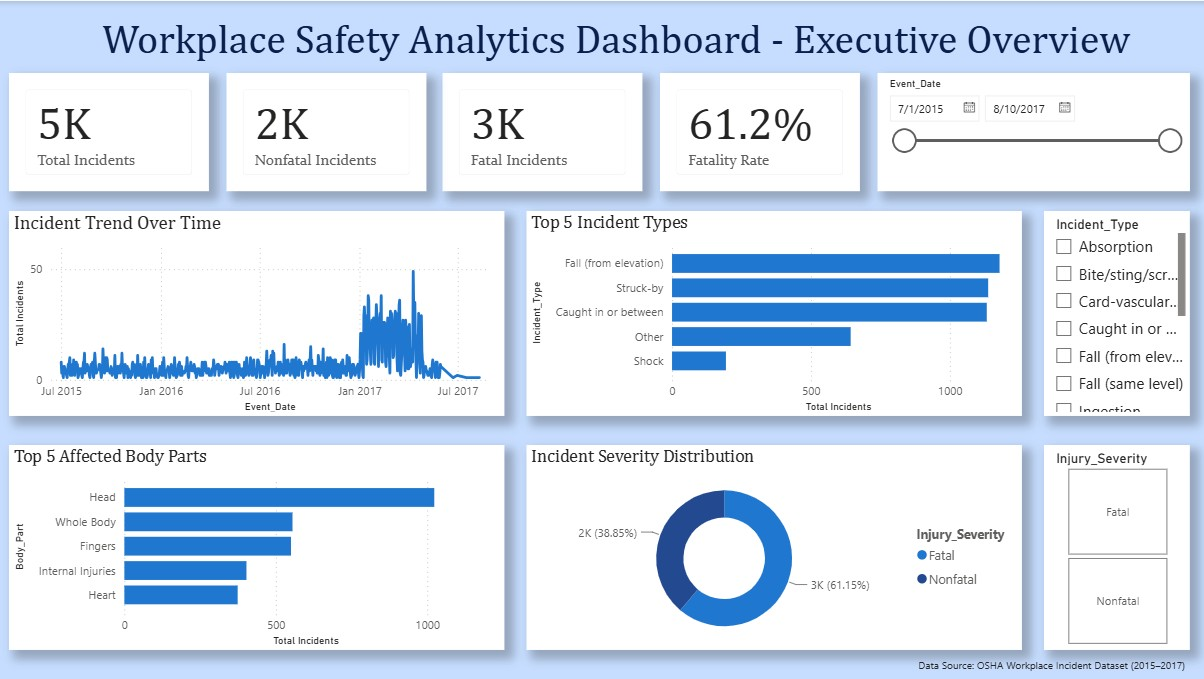

The page's visual inventory and layout, read from the dashboard file:
{"tool":"powerbi","page":{"name":"Executive Overview","canvas":[1280,720],"ordinal":0},"visuals":[{"type":"cardVisual","title":"Tota","fields":{"Data":["osha.Total_Incidents"]},"box":[9.2,76.2,211.8,125.5],"z":0},{"type":"cardVisual","fields":{"Data":["osha.Fatal_Incidents"]},"box":[470,76.2,211.8,125.5],"z":1000},{"type":"cardVisual","fields":{"Data":["osha.Nonfatal_Incidents"]},"box":[239.6,76.2,211.8,125.5],"z":2000},{"type":"cardVisual","fields":{"Data":["osha.Fatality_Rate"]},"box":[700.4,76.2,211.8,125.5],"z":3000},{"type":"lineChart","title":"Incident Trend Over Time","fields":{"Y":["osha.Total_Incidents"],"Category":["osha.Event_Date"]},"box":[9.2,223.3,525.5,217.6],"z":4000},{"type":"donutChart","title":"Incident Severity Distribution","fields":{"Category":["osha.Injury_Severity"],"Y":["osha.Total_Incidents"]},"box":[558.2,470.4,525.5,217.6],"z":5000},{"type":"barChart","title":"Top 5 Incident Types","fields":{"Category":["osha.Incident_Type"],"Y":["osha.Total_Incidents"]},"box":[558.2,223.3,525.5,217.6],"z":6000},{"type":"barChart","title":"Top 5 Affected Body Parts","fields":{"Category":["osha.Body_Part"],"Y":["osha.Total_Incidents"]},"box":[9.2,470.4,525.5,217.6],"z":7000},{"type":"slicer","fields":{"Values":["osha.Event_Date"]},"box":[930.8,76.2,331.4,125.5],"z":8000},{"type":"slicer","fields":{"Values":["osha.Incident_Type"]},"box":[1107.2,223.3,154.9,217.6],"z":9000},{"type":"slicer","fields":{"Values":["osha.Injury_Severity"]},"box":[1107.2,470.4,154.9,217.6],"z":10000},{"type":"textbox","box":[103.9,9.4,1120.6,69.9],"z":11000},{"type":"textbox","box":[969.3,688.1,310.8,27.8],"z":11001}]}

Visuals, with their boxes in screenshot pixels (x1, y1, x2, y2), scaled from the page's 1280x720 canvas onto the 1204x679 screenshot:
"Tota" cardVisual: [9,72,208,190]
cardVisual - osha.Fatal_Incidents: [442,72,641,190]
cardVisual - osha.Nonfatal_Incidents: [225,72,425,190]
cardVisual - osha.Fatality_Rate: [659,72,858,190]
"Incident Trend Over Time" lineChart: [9,211,503,416]
"Incident Severity Distribution" donutChart: [525,444,1019,649]
"Top 5 Incident Types" barChart: [525,211,1019,416]
"Top 5 Affected Body Parts" barChart: [9,444,503,649]
slicer - osha.Event_Date: [876,72,1187,190]
slicer - osha.Incident_Type: [1041,211,1187,416]
slicer - osha.Injury_Severity: [1041,444,1187,649]
textbox: [98,9,1152,75]
textbox: [912,649,1203,675]
